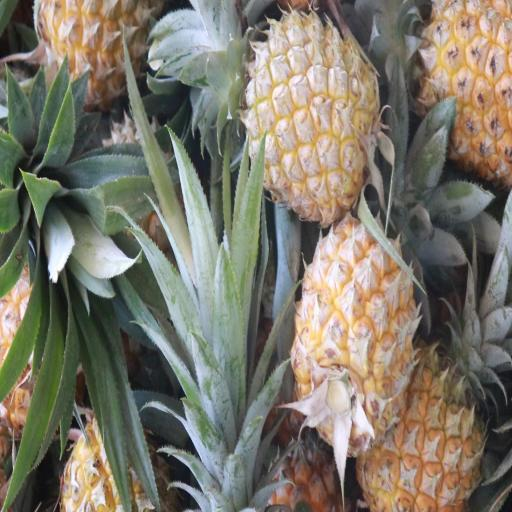------------------------------: (50, 409, 177, 512), (36, 0, 162, 100)
Pineapple - v8 v1: (294, 218, 412, 449), (245, 15, 380, 213), (360, 312, 482, 509), (405, 0, 512, 183)
